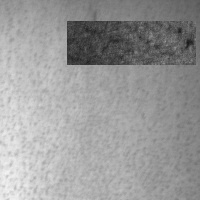crazing: (67, 21, 196, 65)
pitted_surface: (1, 2, 70, 198), (153, 3, 200, 177)
